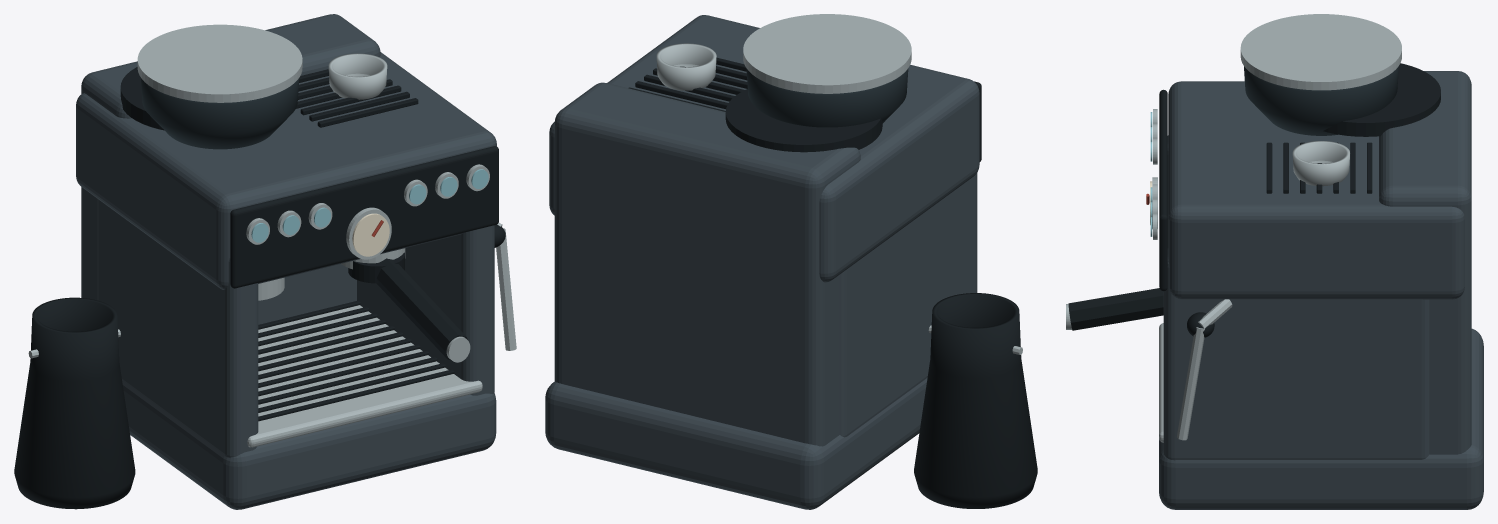
File: breville-barista.glb
3 renders of one model, left to right at view 1: azimuth 30°, elevation 25°; view 2: azimuth 150°, elevation 25°; view 3: azimuth 270°, elevation 25°, orthographic. The views are drawn at different scales.
Parts seen in each view (by area): view 1: breville-barista; view 2: breville-barista; view 3: breville-barista.
Part boxes in pixels (left/top/right/bottom): breville-barista: left=14, top=14, right=516, bottom=509; breville-barista: left=545, top=14, right=1037, bottom=509; breville-barista: left=1066, top=14, right=1483, bottom=509.
Bounding box in the file's own units: 0.48 × 0.4235 × 0.42.
